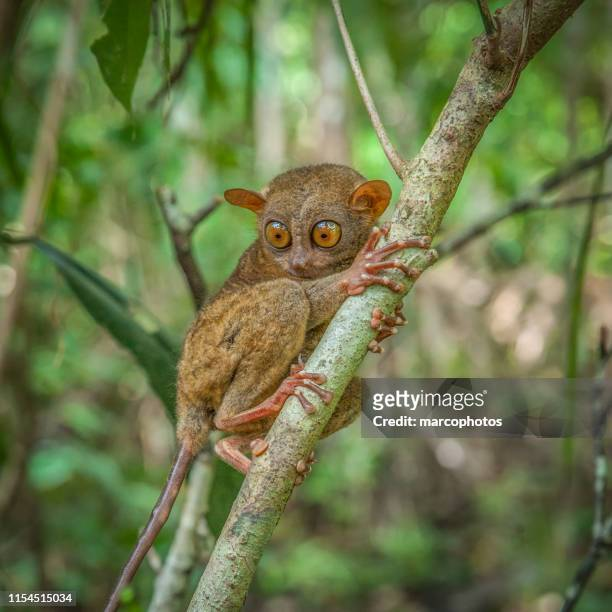tarsier: (153, 158, 405, 493)
